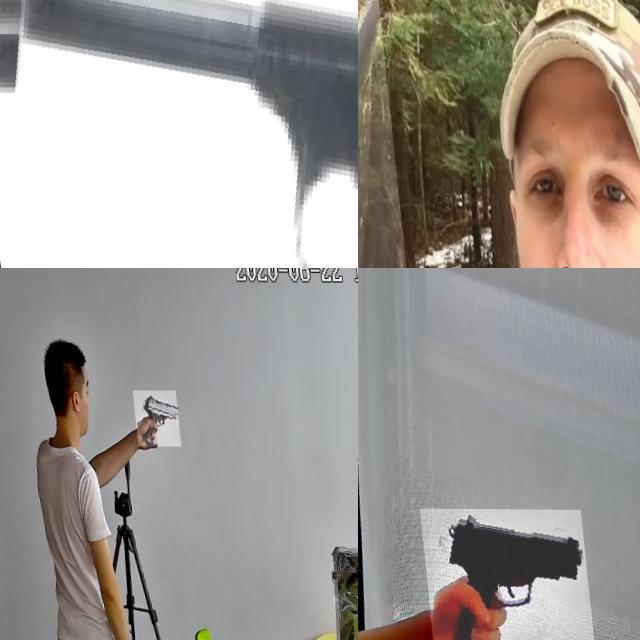-: (358, 0, 492, 268)
gun-knife-thesis - v11 Yolov5 augmented: (0, 0, 358, 268), (413, 508, 588, 640), (130, 389, 178, 446)
